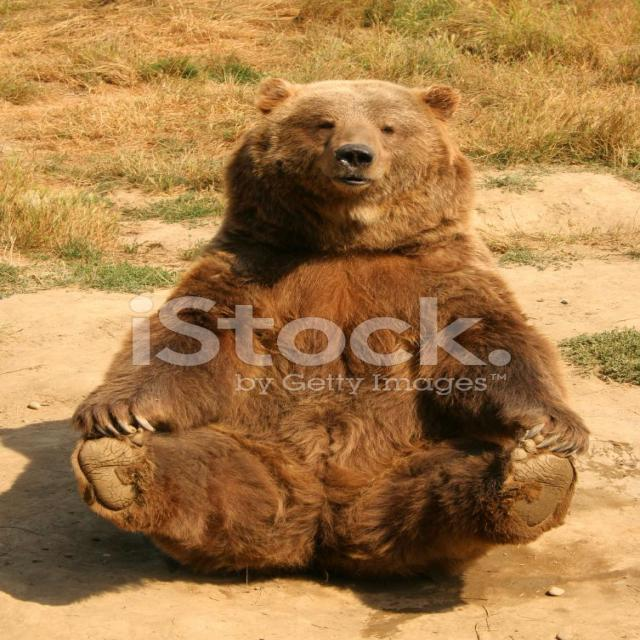Bear: (70, 78, 591, 585)
